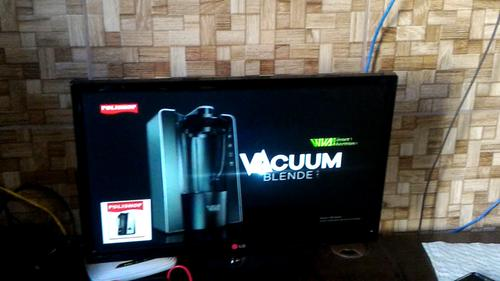Polishop #1: (100, 199, 152, 244)
